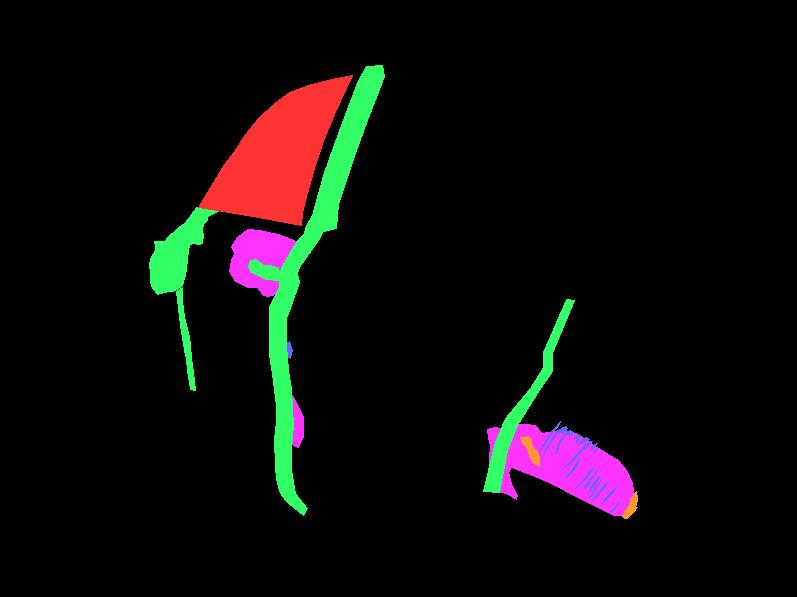Broken part: (269, 65, 384, 515), (483, 299, 574, 492), (149, 207, 219, 294), (176, 287, 195, 390), (248, 259, 280, 280)
Dent: (487, 424, 634, 515), (229, 229, 297, 296), (286, 391, 303, 447)
Missing part: (198, 75, 352, 225)
Paint chip: (520, 436, 539, 466), (622, 491, 637, 518)
Scratch: (563, 441, 592, 469), (541, 426, 567, 457), (539, 421, 560, 451), (555, 430, 573, 454), (575, 467, 594, 488), (600, 487, 617, 505), (592, 481, 608, 499), (565, 458, 579, 478), (589, 478, 602, 499), (583, 470, 597, 488), (588, 476, 600, 492), (609, 501, 619, 512), (286, 341, 292, 358), (577, 437, 589, 445), (589, 443, 597, 450), (573, 435, 580, 442), (593, 448, 597, 452)
